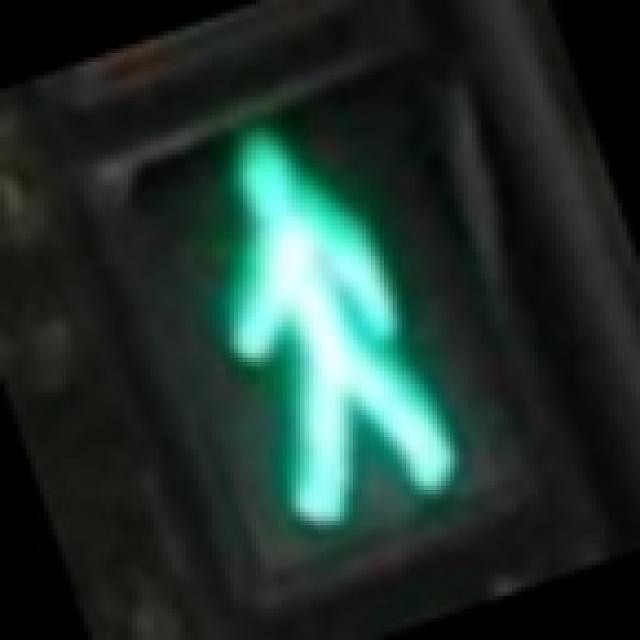geen-crossing: (102, 58, 526, 560)
